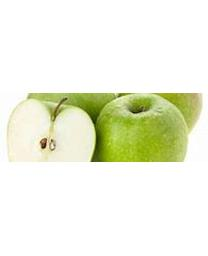apple: (95, 94, 189, 163), (6, 97, 95, 161)
